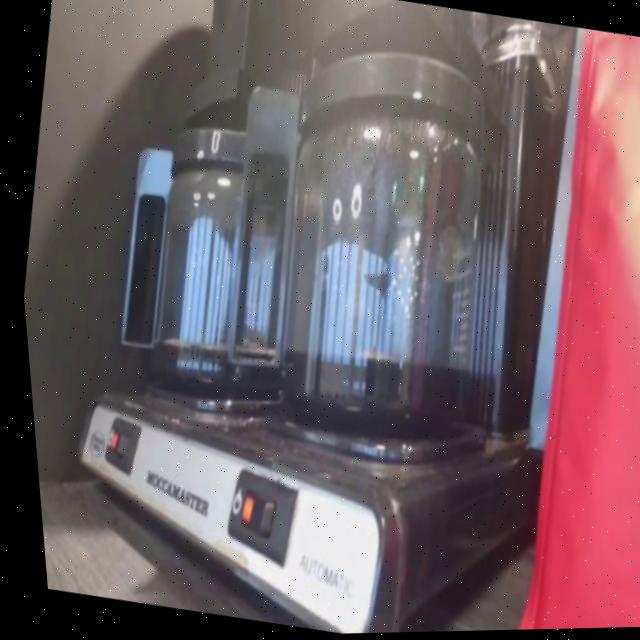coffee: (223, 13, 553, 475), (112, 94, 342, 442)
